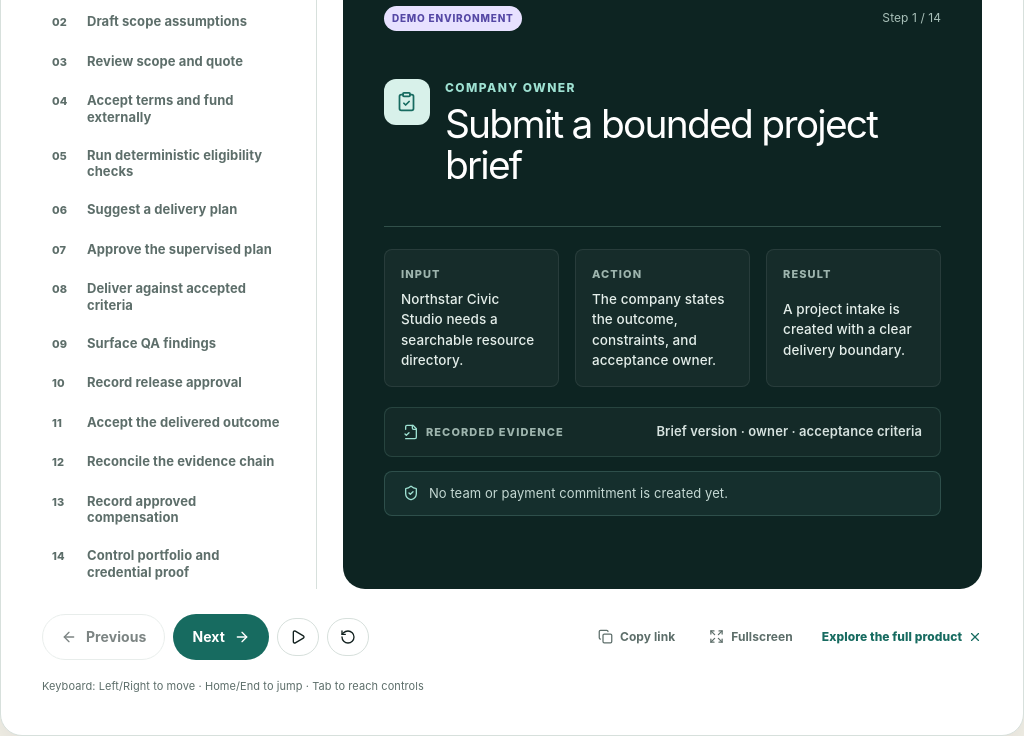
Scenario: judge walkthrough › supports direct step selection and restart
(page scrolled)
Click the button "14 Control portfolio and credential proof" at (169, 564), box [42,538,296,589]
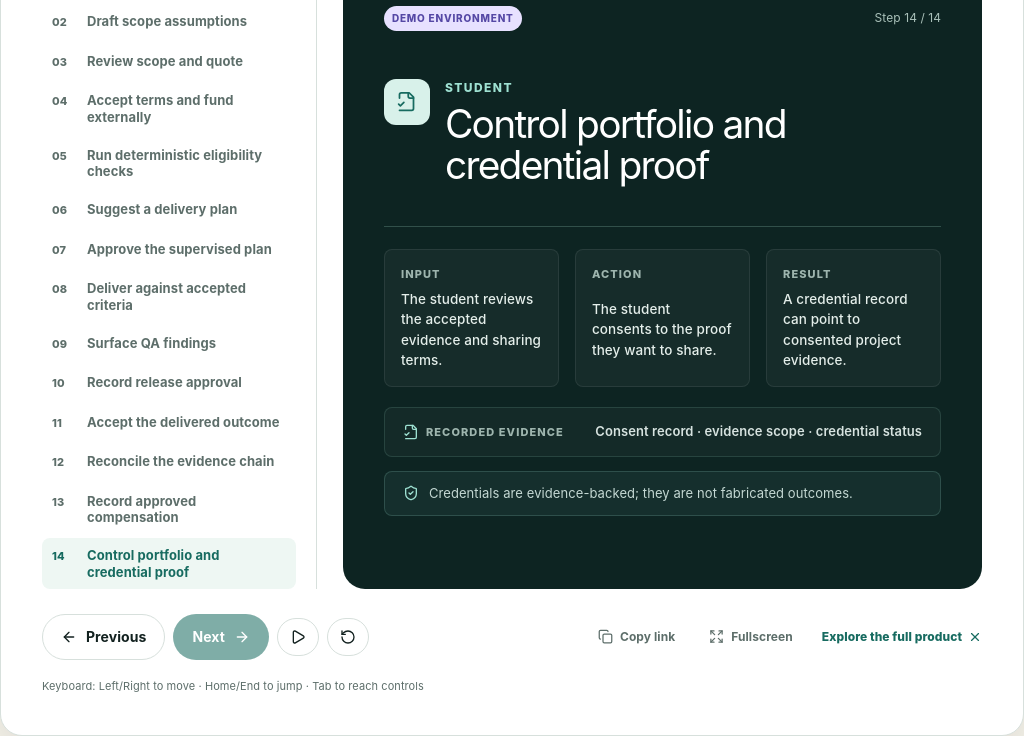
Expected: the heading "Control portfolio and credential proof" is shown, [445,100,786,188]
Click the button named "Restart walkthrough" at (348, 637), box [327,618,369,656]
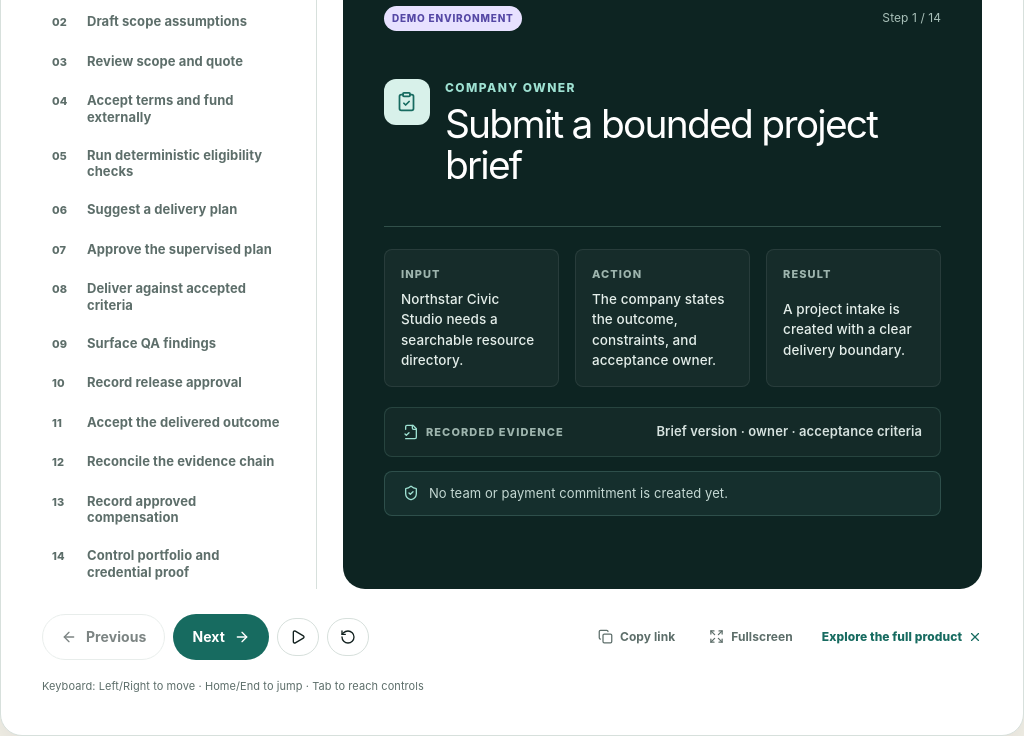
Expected: the heading "Submit a bounded project brief" is shown, [445,104,941,186]
